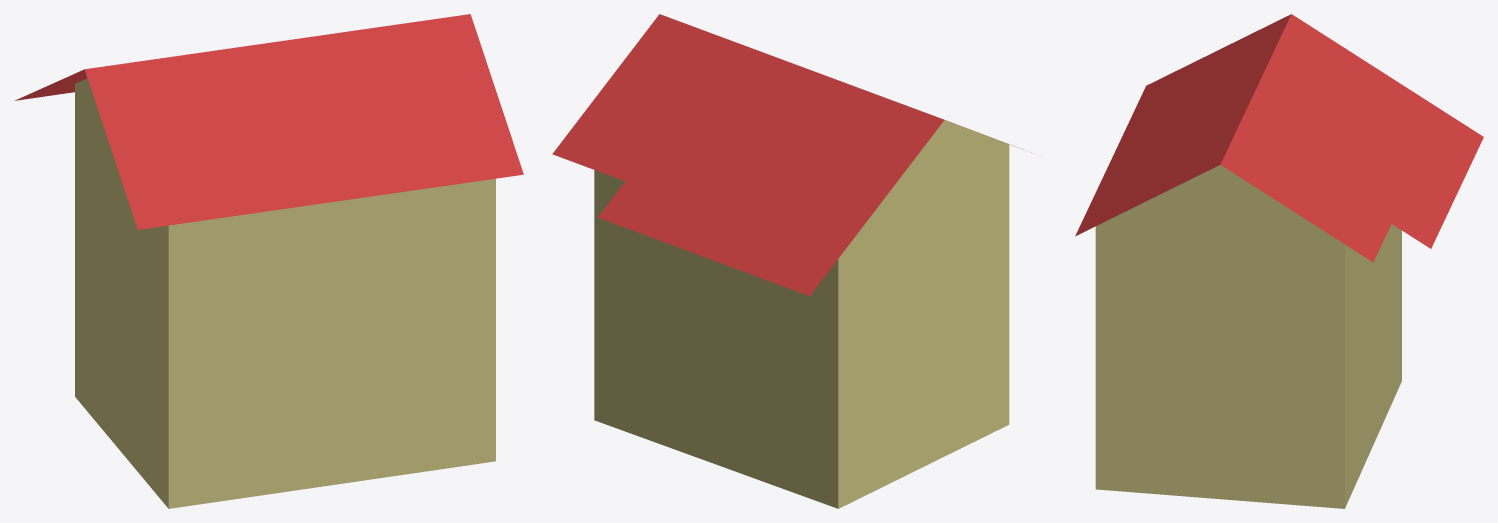
3 views of the same model, side by side, from view 1: azimuth 30°, elevation 25°; view 2: azimuth 150°, elevation 25°; view 3: azimuth 270°, elevation 25° (orthographic). The views are drawn at different scales.
Bounding box in the file's own units: 12.25 × 12.03 × 11.17.
